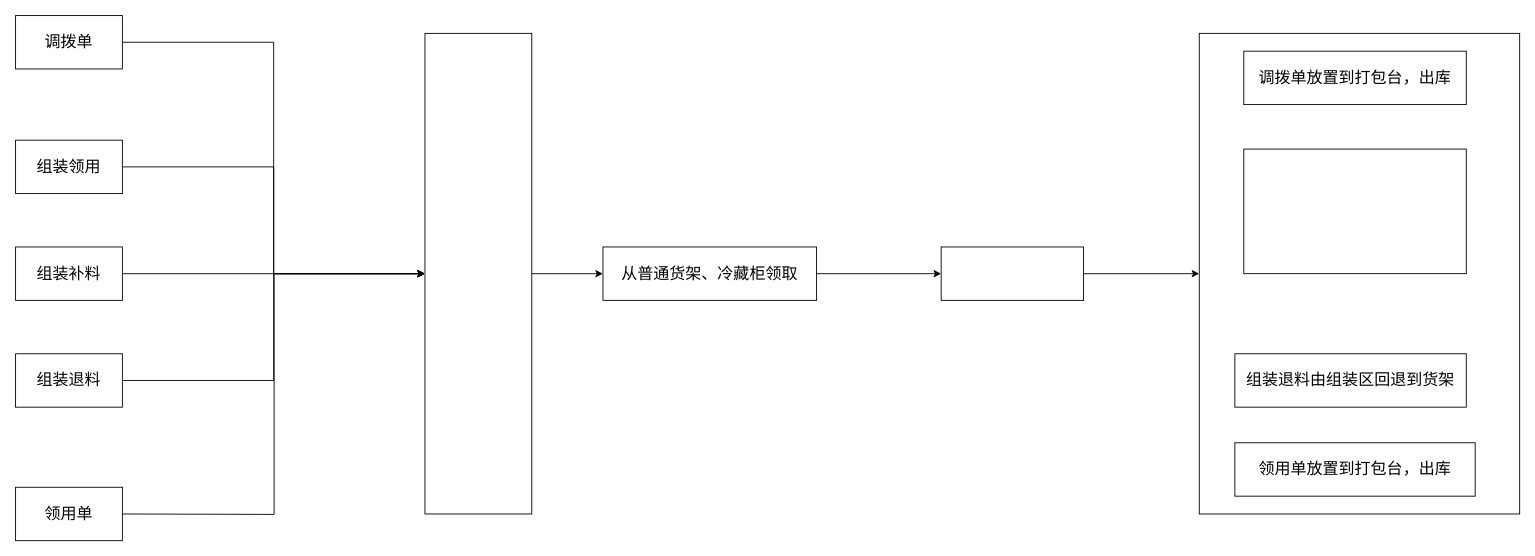
Some shapes in this 1535 by 556 pixel diagram are drawn without their labels. Here are the shapes that lost their labels. From the top down, the centre of each, then its label:
(1354,211): 组装领用、补料放置到组装区
(478,273): 领料单
(1012,273): 放置到对应的位置
